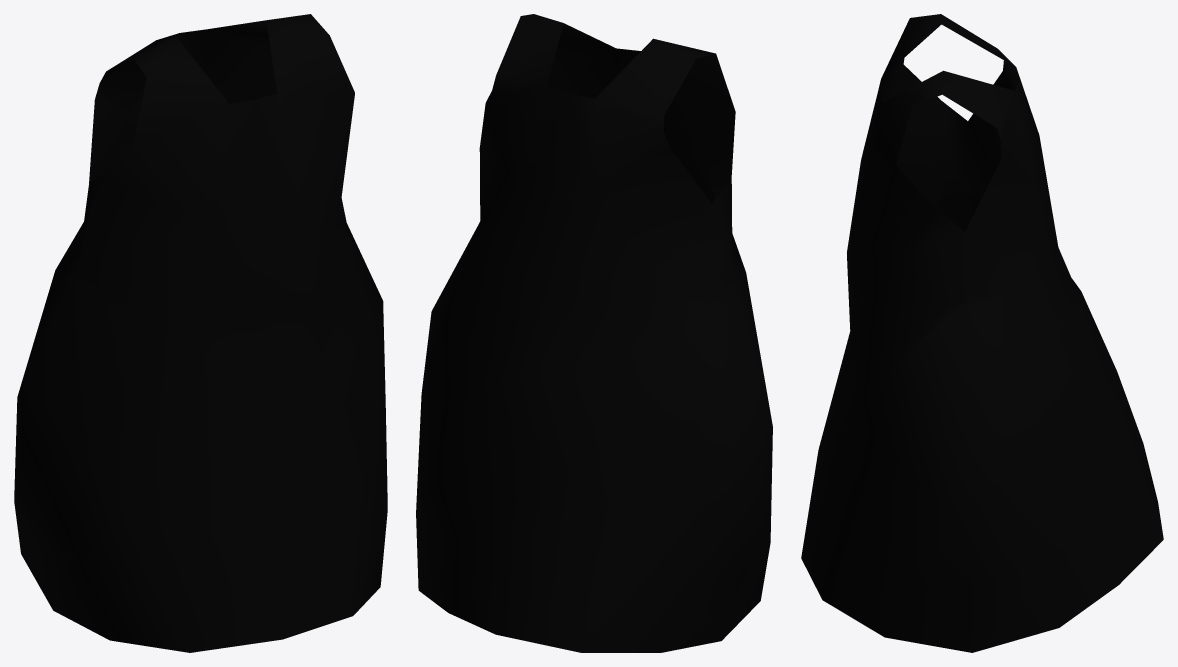
The model's file is dress town.fbx.
3 renders of one model, left to right at view 1: azimuth 30°, elevation 25°; view 2: azimuth 150°, elevation 25°; view 3: azimuth 270°, elevation 25°, orthographic. The views are drawn at different scales.
Visible parts, largest first — view 1: dress town; view 2: dress town; view 3: dress town.
Part boxes in pixels (x1=…): dress town: x1=14, y1=14, x2=387, y2=652; dress town: x1=416, y1=14, x2=772, y2=652; dress town: x1=801, y1=14, x2=1163, y2=652.
Size of the model in its own units: 62.84 by 96.88 by 59.06.
